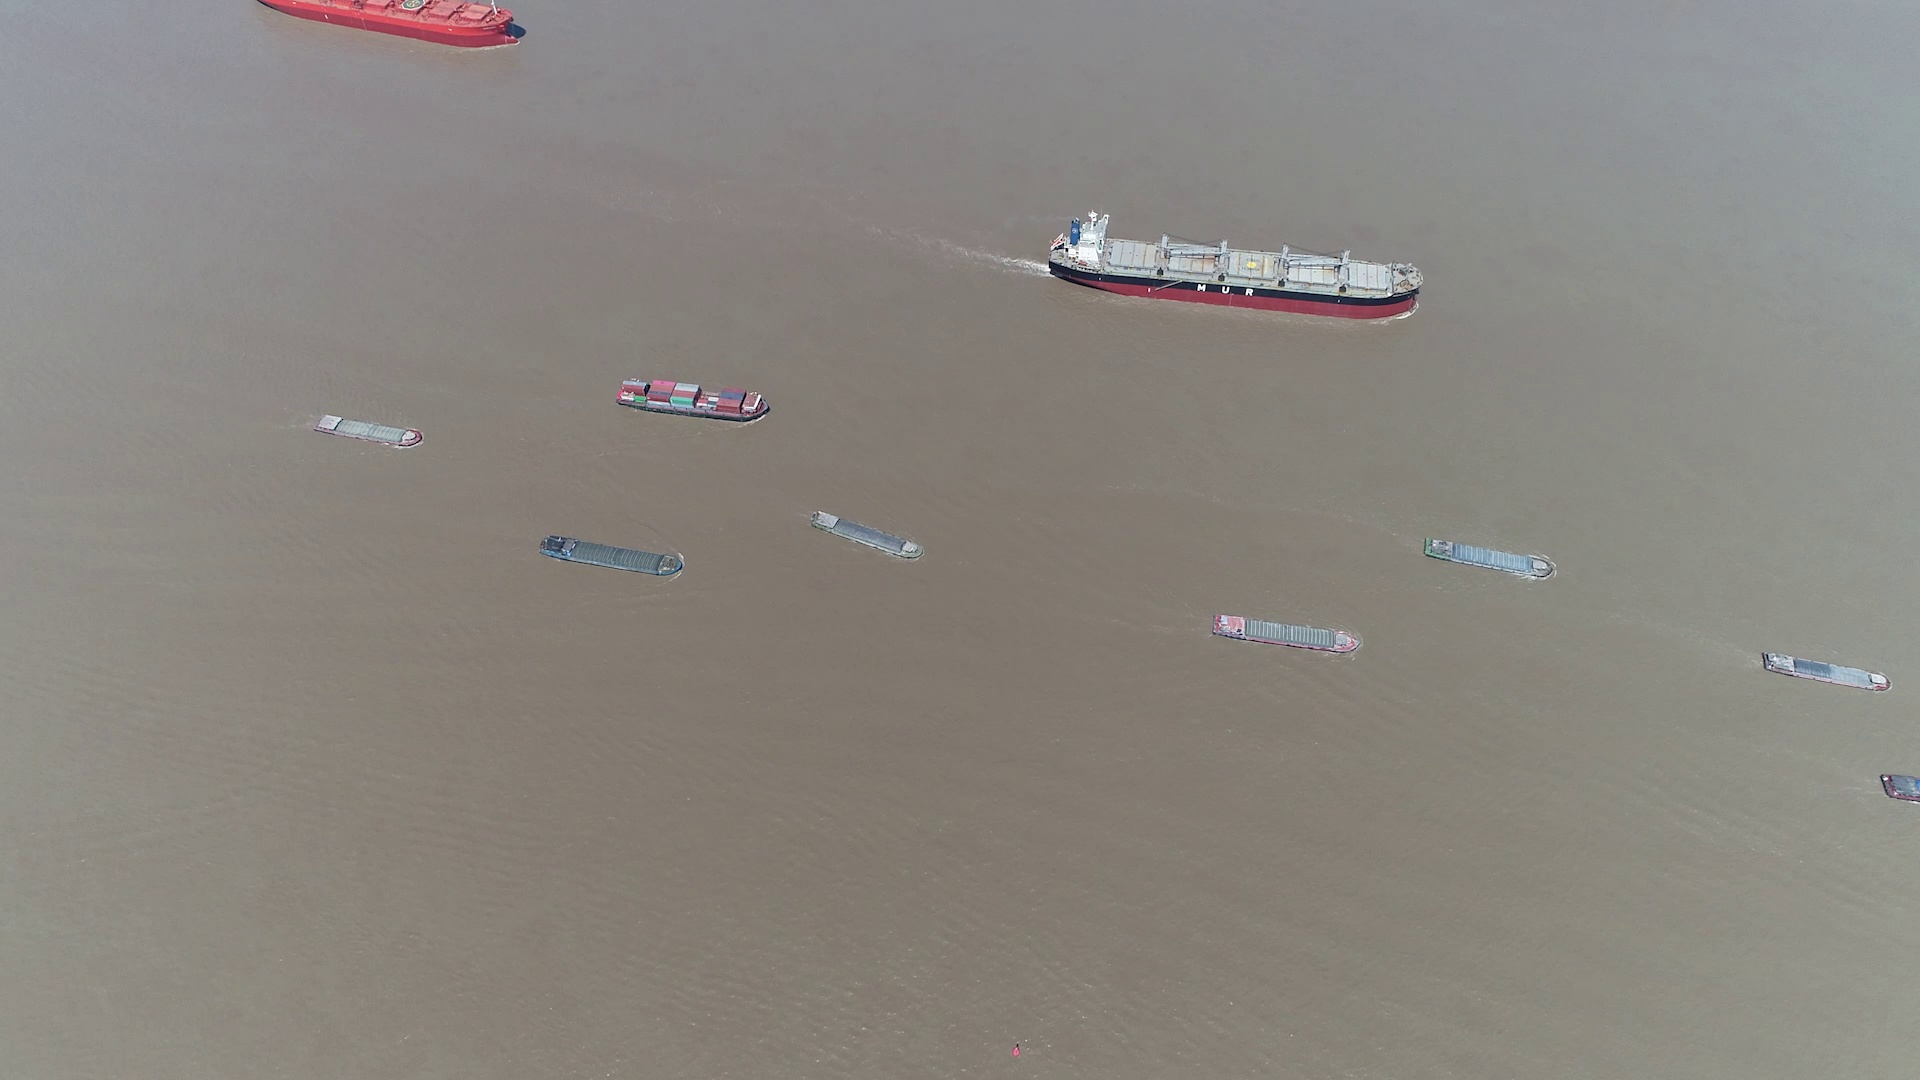ship: (1050, 214, 1422, 316), (258, 0, 524, 49), (617, 376, 771, 421), (541, 535, 688, 579), (1211, 615, 1360, 655), (811, 512, 924, 563), (1760, 649, 1894, 692), (1422, 538, 1553, 582), (313, 411, 423, 447), (1879, 773, 1920, 804)
